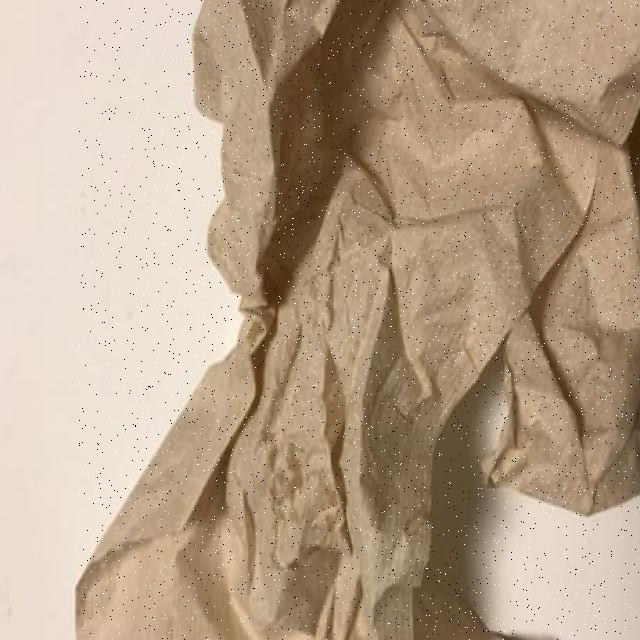paper: (79, 0, 640, 640)
